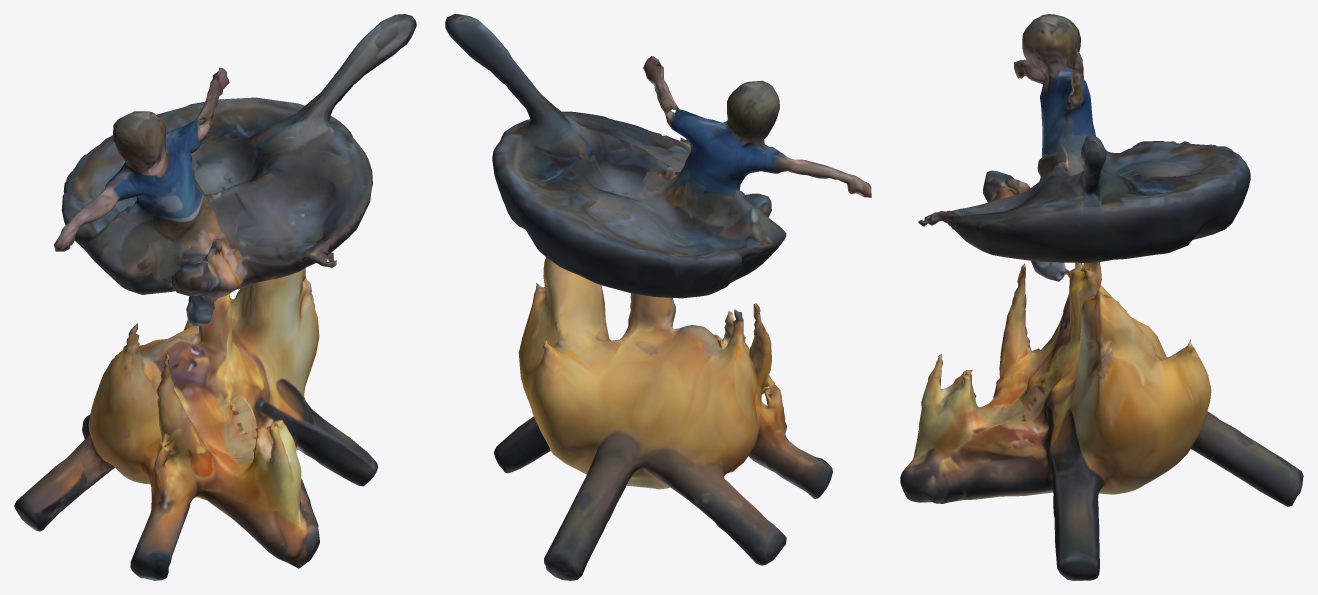
File: 01912eb8-5319-72ce-82b2-1d95eab31594_glb.glb
The picture shows the model from 3 angles, left to right: view 1: azimuth 30°, elevation 25°; view 2: azimuth 150°, elevation 25°; view 3: azimuth 270°, elevation 25°; orthographic projection. The views are drawn at different scales.
Size of the model in its own units: 1.1 by 1.2 by 0.9447.
Materials: 1 (1 with a texture image).
